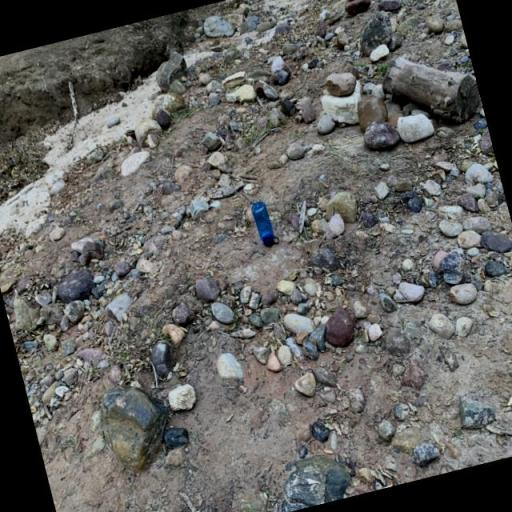bottle: (250, 198, 280, 248)
